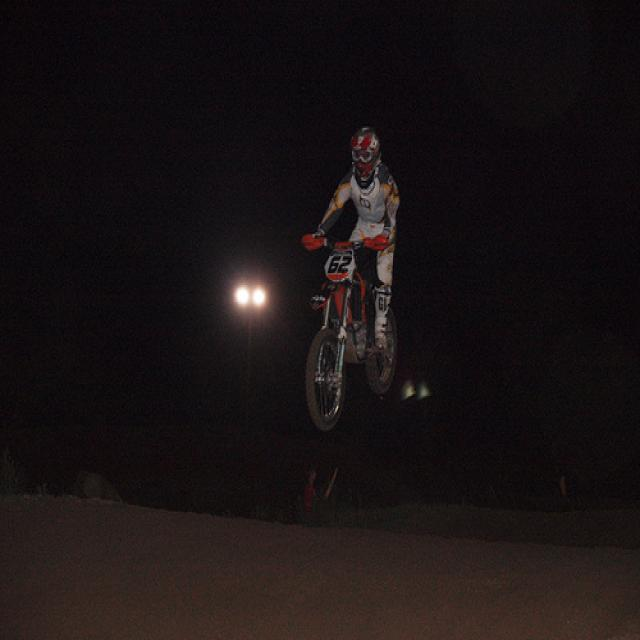Motorbike: (300, 223, 407, 434)
